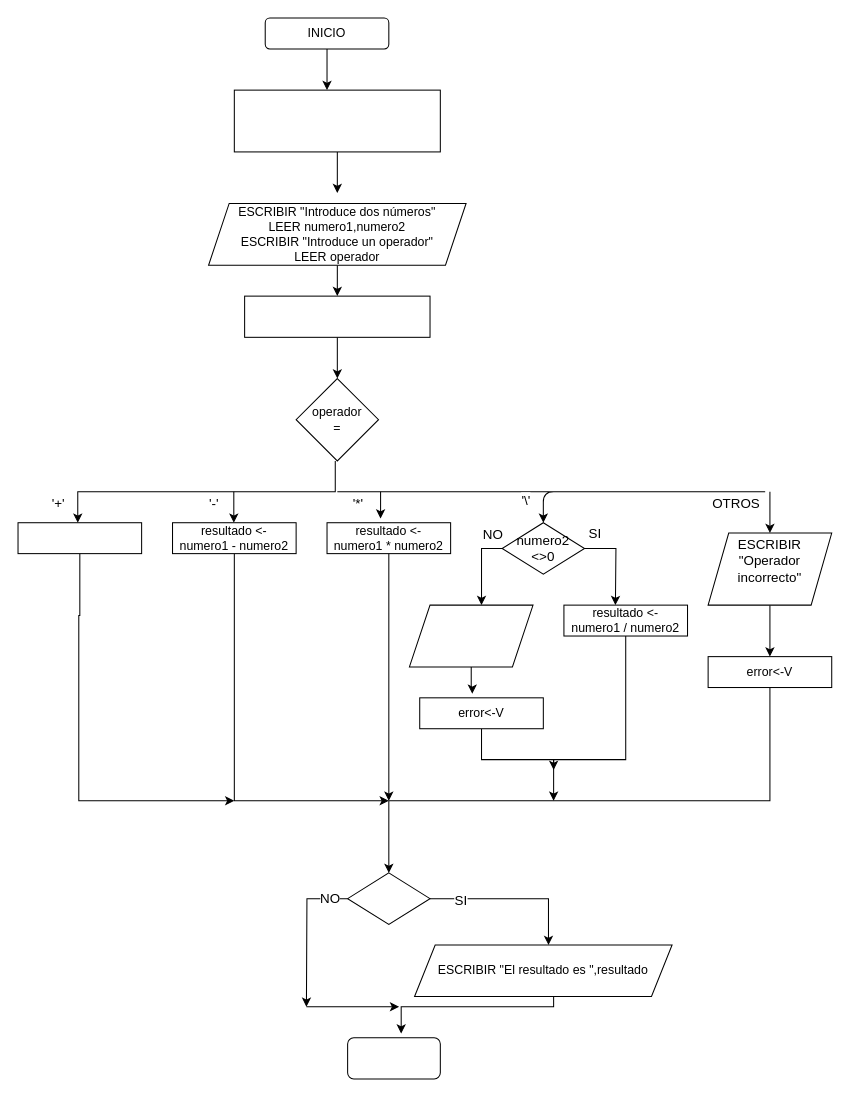
Image size: 850x1097. Some labels were removed from this diagram. The box of each missing label's shape, as (x1, y1, x2, y2) in pixels:
error<- F: (244, 295, 430, 337)
error=F: (347, 872, 430, 924)
ESCRIBIR "No puede divirse por cero: (408, 604, 533, 667)
FIN: (347, 1037, 440, 1079)
numero1,numero2:ENTERO resultado: REAL error:LOGICO operador: CARACTER: (233, 89, 440, 152)
resultado <- numero1 +numero2: (17, 522, 142, 554)
